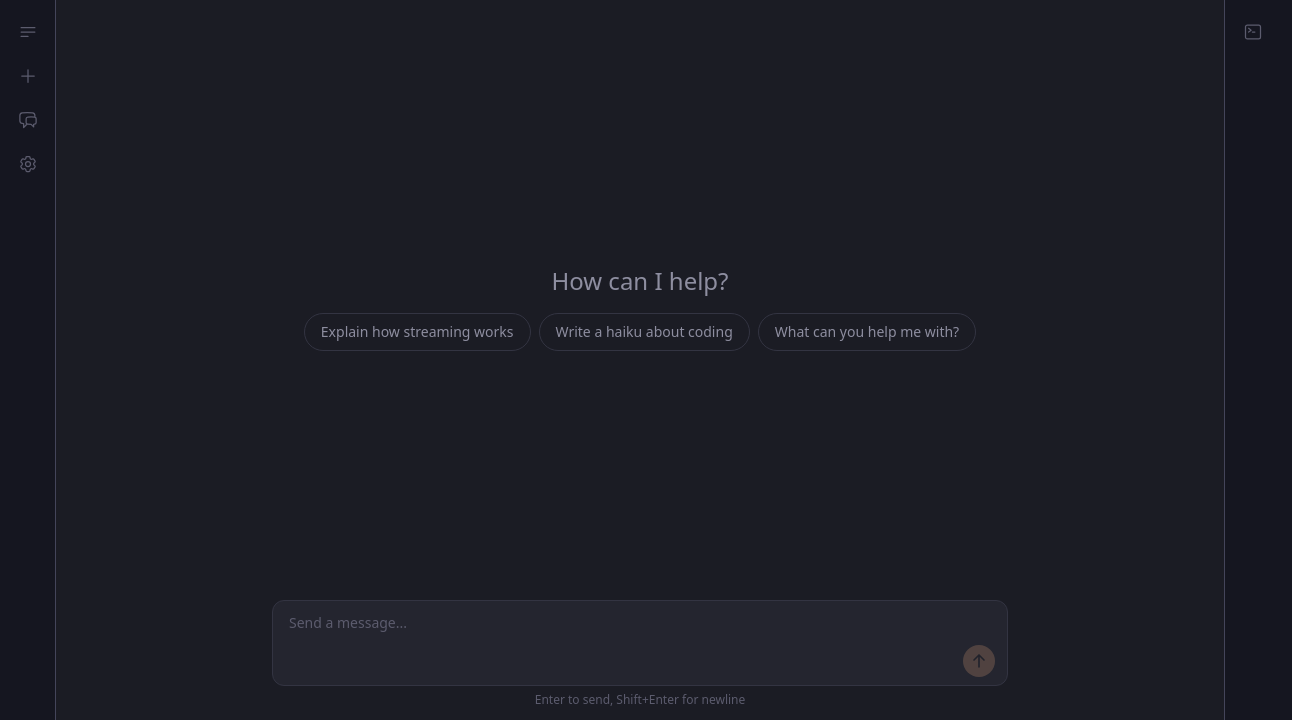
Test case: ChatPage — UI integration › toggles the debug pane when debug icon is clicked
Note: Click to expand
Click the button named "expand debug pane" at (1252, 32), box [1232,12,1272,52]
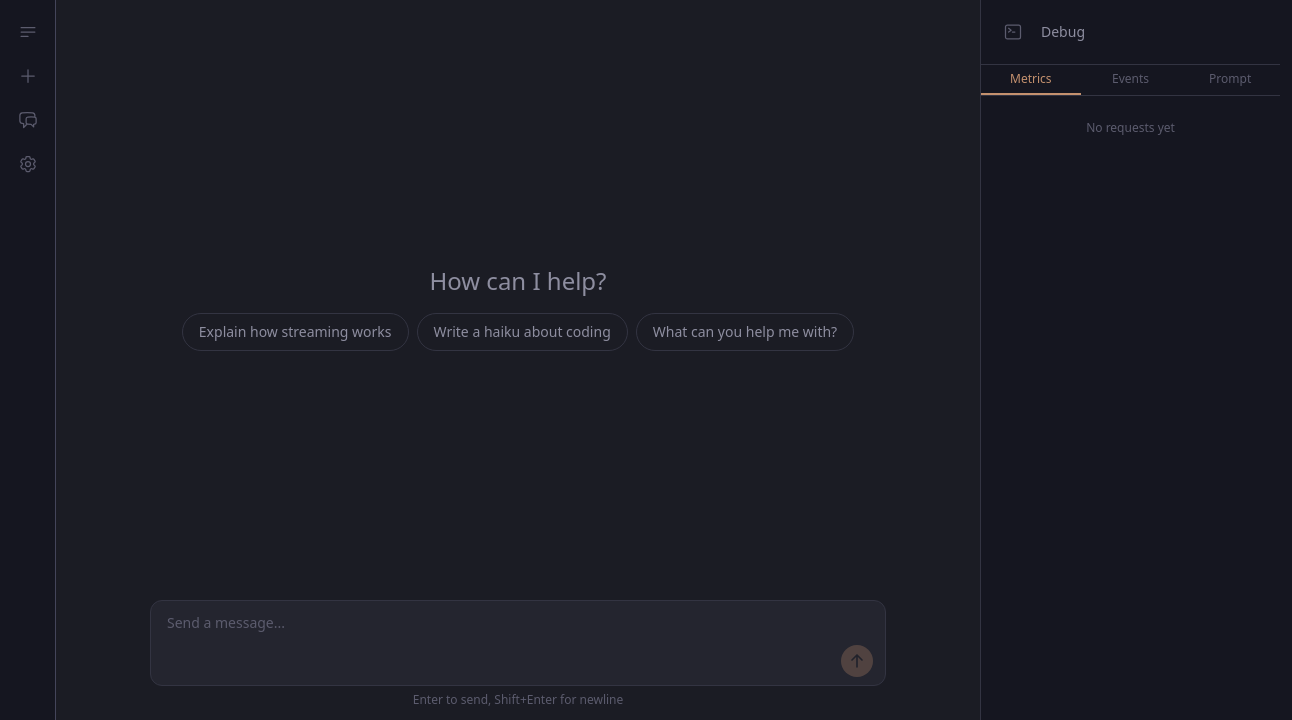
Expected: the tab "Metrics" is shown, [981,65,1081,95]
